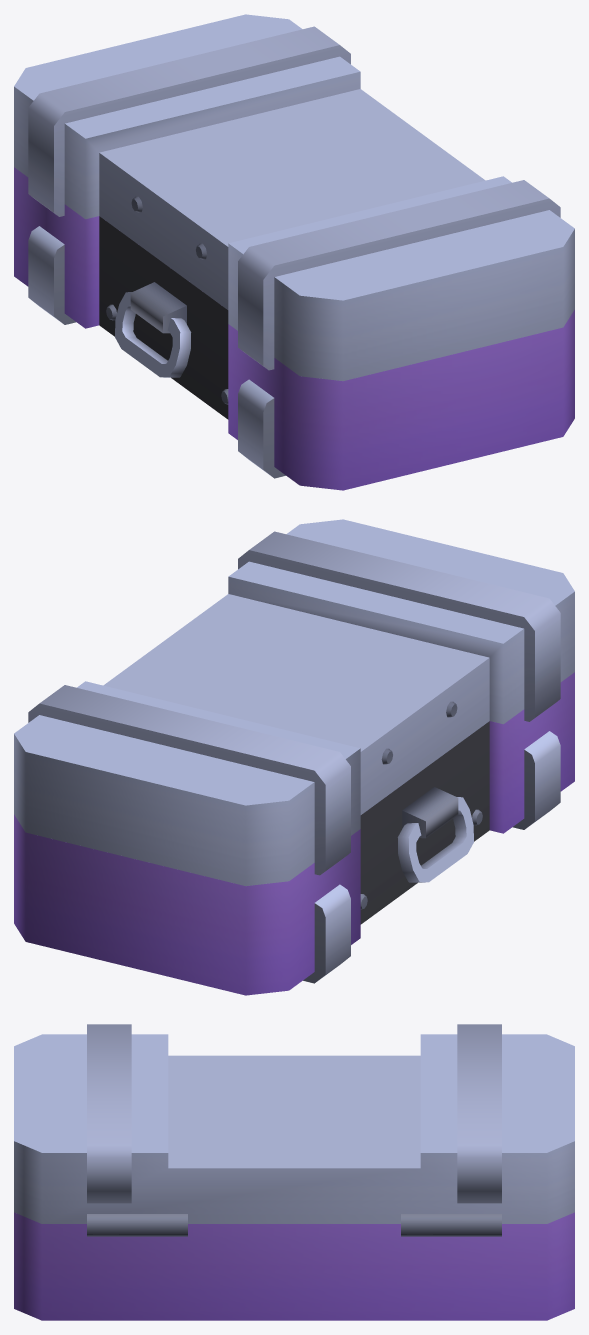
The model's file is crate-medium.glb.
3 views of the same model, one above another, from view 1: azimuth 30°, elevation 25°; view 2: azimuth 150°, elevation 25°; view 3: azimuth 270°, elevation 25° (orthographic). The views are drawn at different scales.
Parts seen in each view (by area): view 1: lid, crate-medium; view 2: lid, crate-medium; view 3: lid, crate-medium.
Part boxes in pixels (box(x1,y1,x2,y2)): lid: box(14, 14, 574, 381); crate-medium: box(14, 167, 574, 490); lid: box(14, 519, 574, 886); crate-medium: box(14, 672, 574, 995); lid: box(14, 1024, 574, 1223); crate-medium: box(14, 1212, 574, 1320).
Size of the model in its own units: 0.5495 by 0.37 by 1.
1 material, 1 textured.
